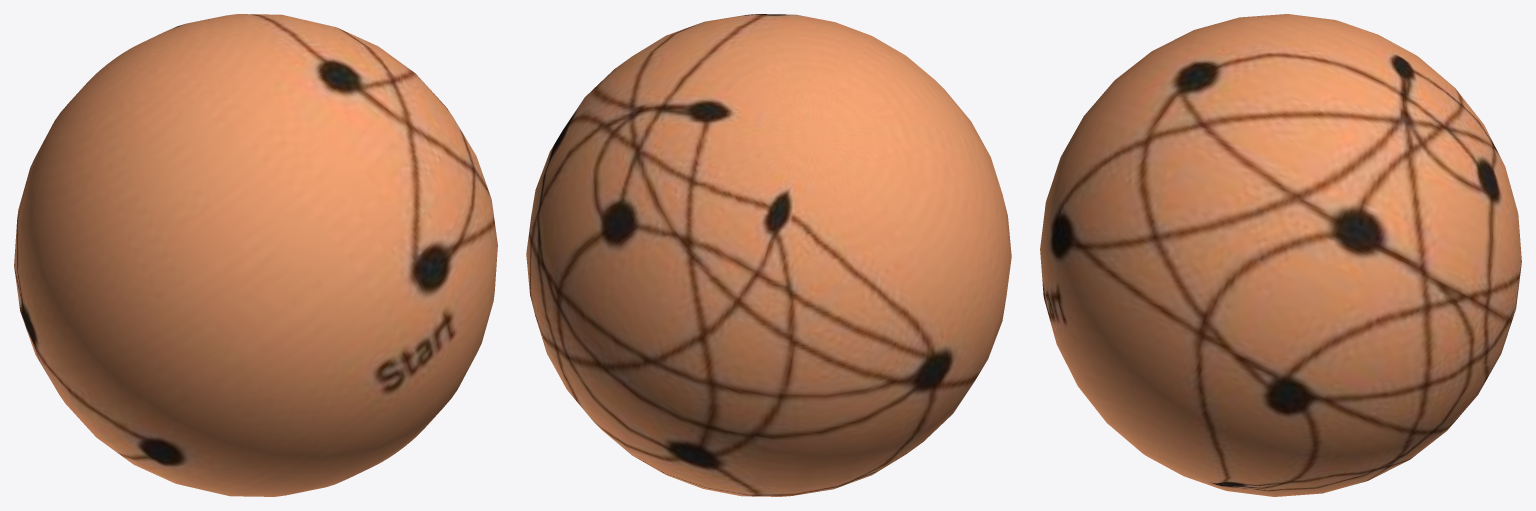
Rendered from HypertextStructure.dae.
The picture shows the model from 3 angles, left to right: view 1: azimuth 30°, elevation 25°; view 2: azimuth 150°, elevation 25°; view 3: azimuth 270°, elevation 25°; orthographic projection.
Visible parts, largest first — view 1: Sphere; view 2: Sphere; view 3: Sphere.
Part boxes in pixels (x1,y1,x2,y2): Sphere: [14, 14, 497, 496]; Sphere: [526, 14, 1011, 496]; Sphere: [1040, 14, 1521, 496].
Size of the model in its own units: 3.4 by 3.4 by 3.4.
1 material, 1 textured.
